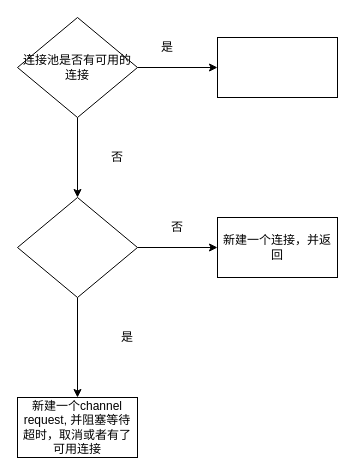
Some shapes in this 355 by 475 pixel diagram are drawn without their labels. The shapes that lost their labels are listed below. From the top down, each one's centre as x and y in pixels, then its label:
point (277, 67): 返回连接池的第一个可用连接
point (77, 247): 是否到了最大连接数
